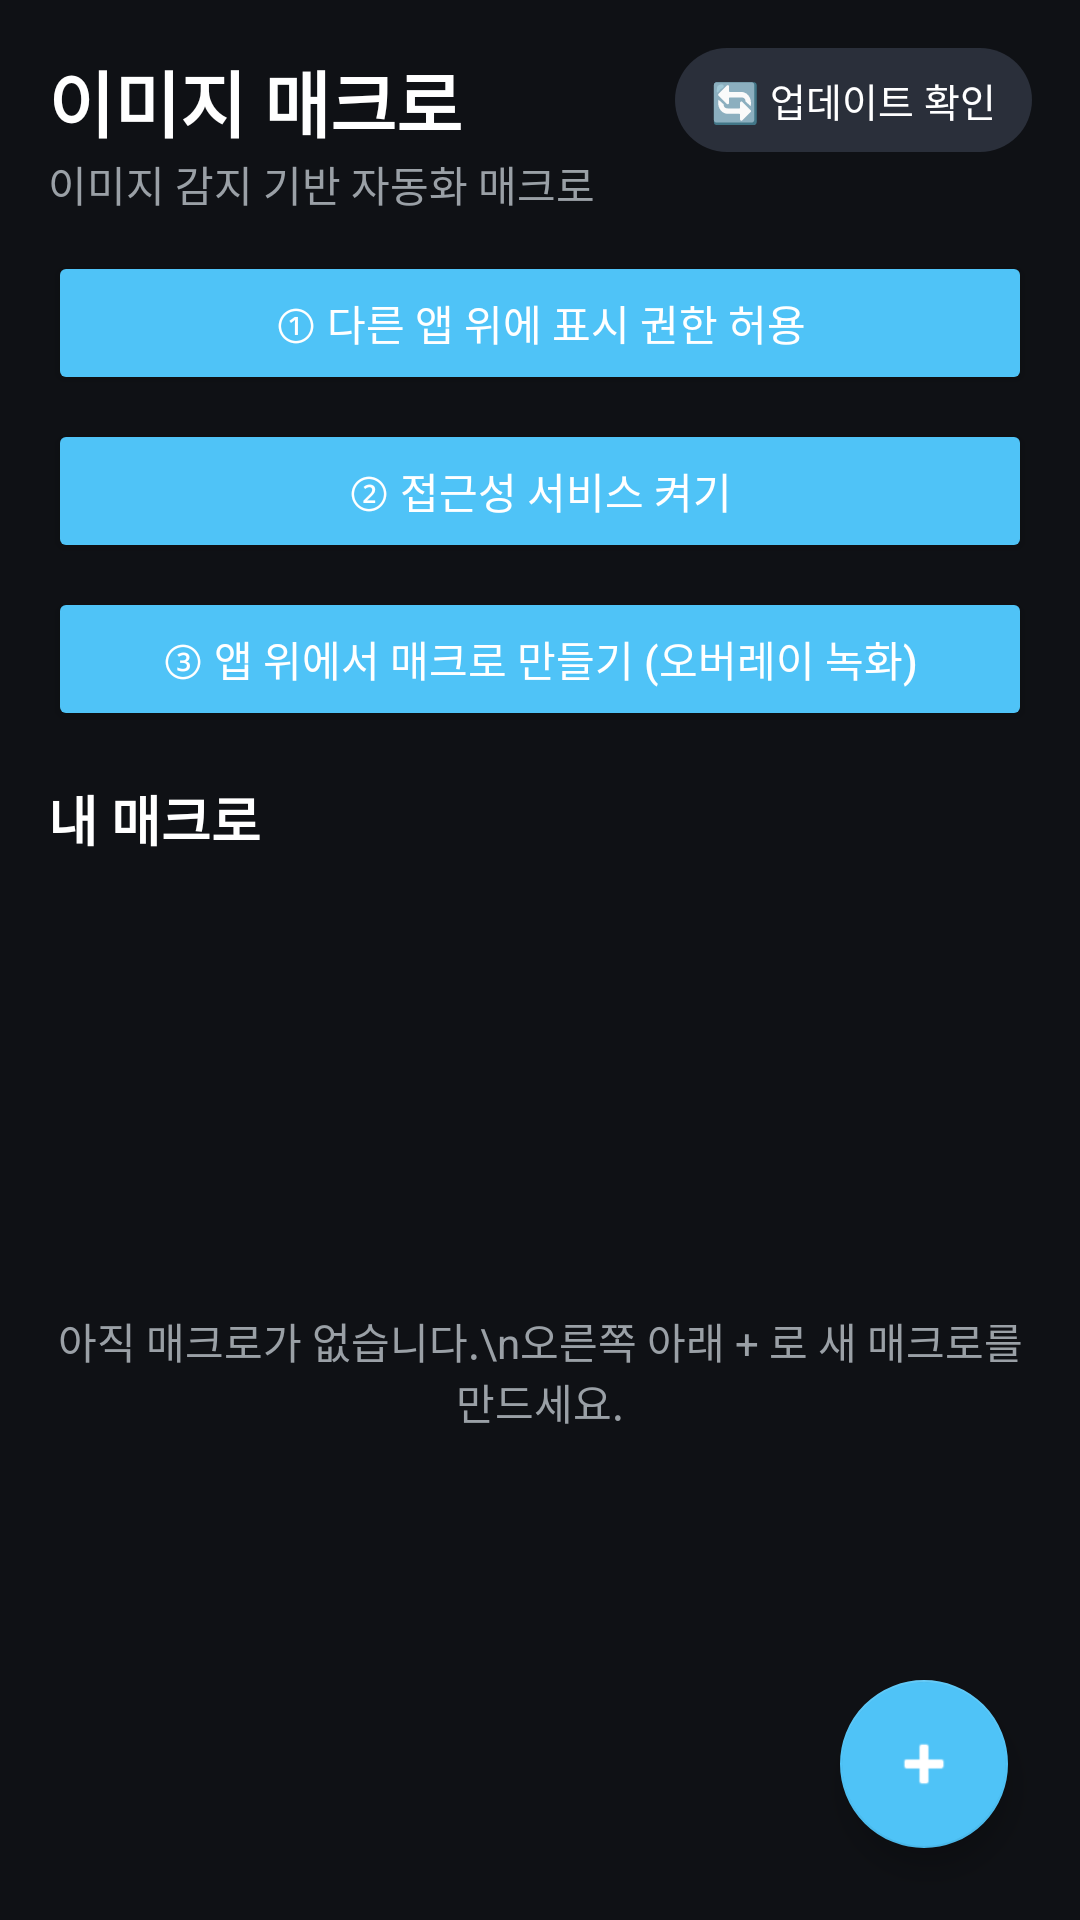

Screen size 1080px x 1920px. Icon name, then its box in pixels as (x1, y1, x2, y2):
새 매크로: (840, 1680, 1008, 1848)
